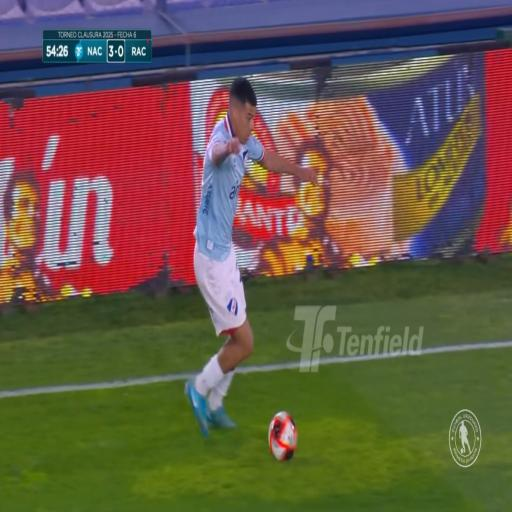Ball: (268, 408, 296, 464)
Player: (185, 80, 260, 429)
